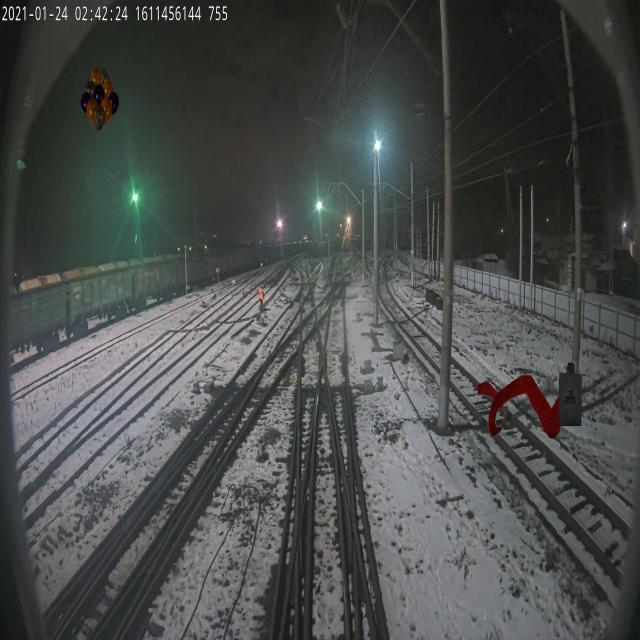balloon: (80, 67, 120, 132)
floating object: (478, 374, 561, 438)
plastic bag: (558, 362, 582, 426)
